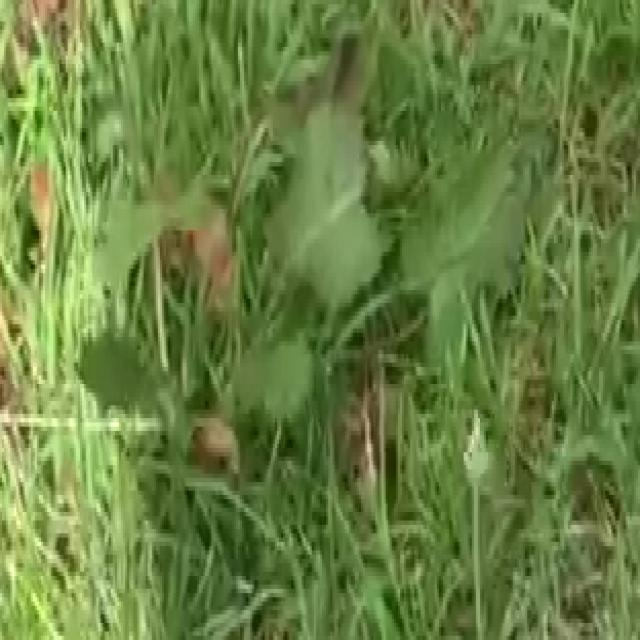organic waste: (55, 98, 564, 568)
